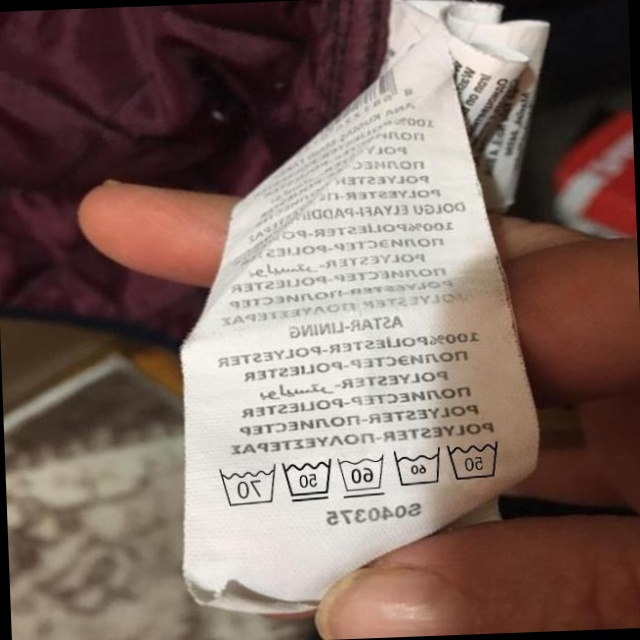50C: (442, 433, 506, 485), (278, 455, 336, 506)
60C: (333, 450, 388, 500), (389, 443, 445, 491)
70C: (212, 462, 278, 509)
